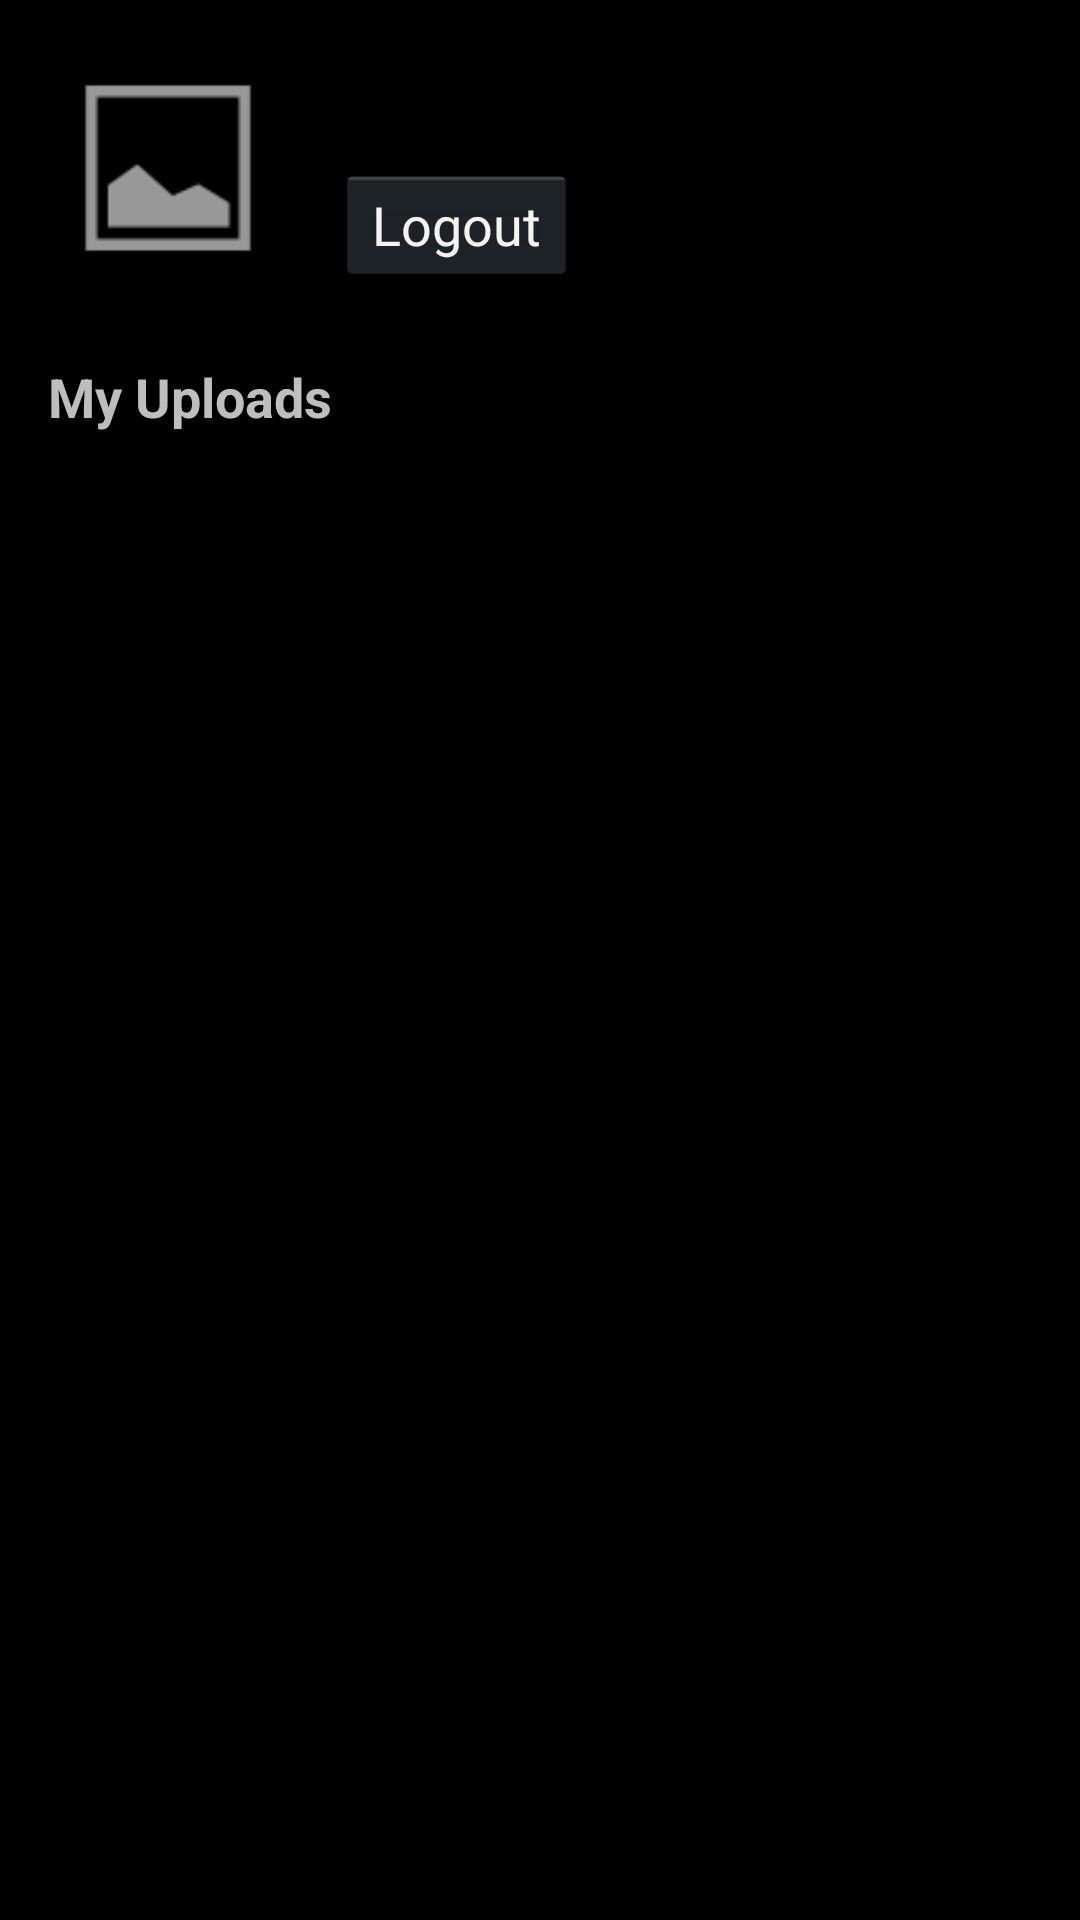

Locate icon controls on the screen. Image size 1080w x 1920h, boxes as (x1, y1, x2, y2).
gallery: (85, 85, 251, 251)
